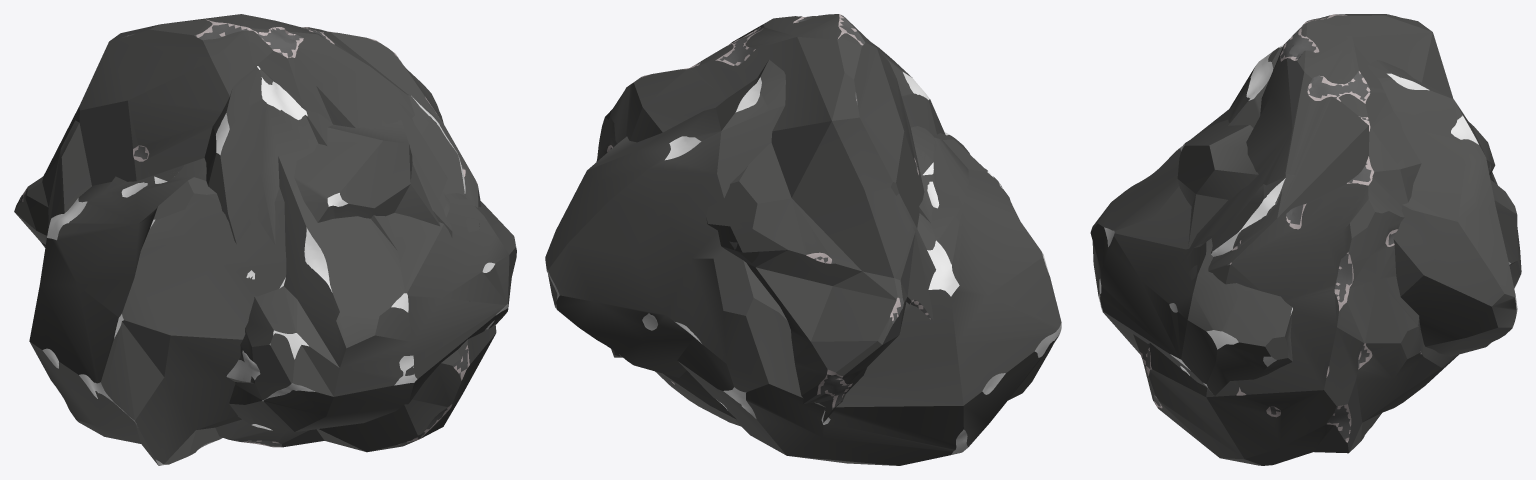
The model's file is Asteroid_1.fbx.
3 renders of one model, left to right at view 1: azimuth 30°, elevation 25°; view 2: azimuth 150°, elevation 25°; view 3: azimuth 270°, elevation 25°, orthographic. The views are drawn at different scales.
Parts seen in each view (by area): view 1: asteroid 3, asteroid 1, asteroid 2; view 2: asteroid 3, asteroid 2, asteroid 1; view 3: asteroid 2, asteroid 3, asteroid 1.
Part boxes in pixels (left/top/right/bottom): asteroid 3: left=29, top=93, right=465, bottom=465; asteroid 1: left=204, top=66, right=516, bottom=431; asteroid 2: left=14, top=14, right=496, bottom=452; asteroid 3: left=545, top=59, right=1061, bottom=465; asteroid 2: left=596, top=14, right=935, bottom=426; asteroid 1: left=871, top=42, right=1010, bottom=200; asteroid 2: left=1133, top=14, right=1497, bottom=465; asteroid 3: left=1177, top=60, right=1521, bottom=356; asteroid 1: left=1090, top=45, right=1292, bottom=395.
Bounding box in the file's own units: 308 × 292 × 300.
